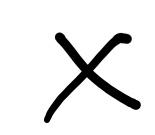mult: (44, 32, 141, 123)
